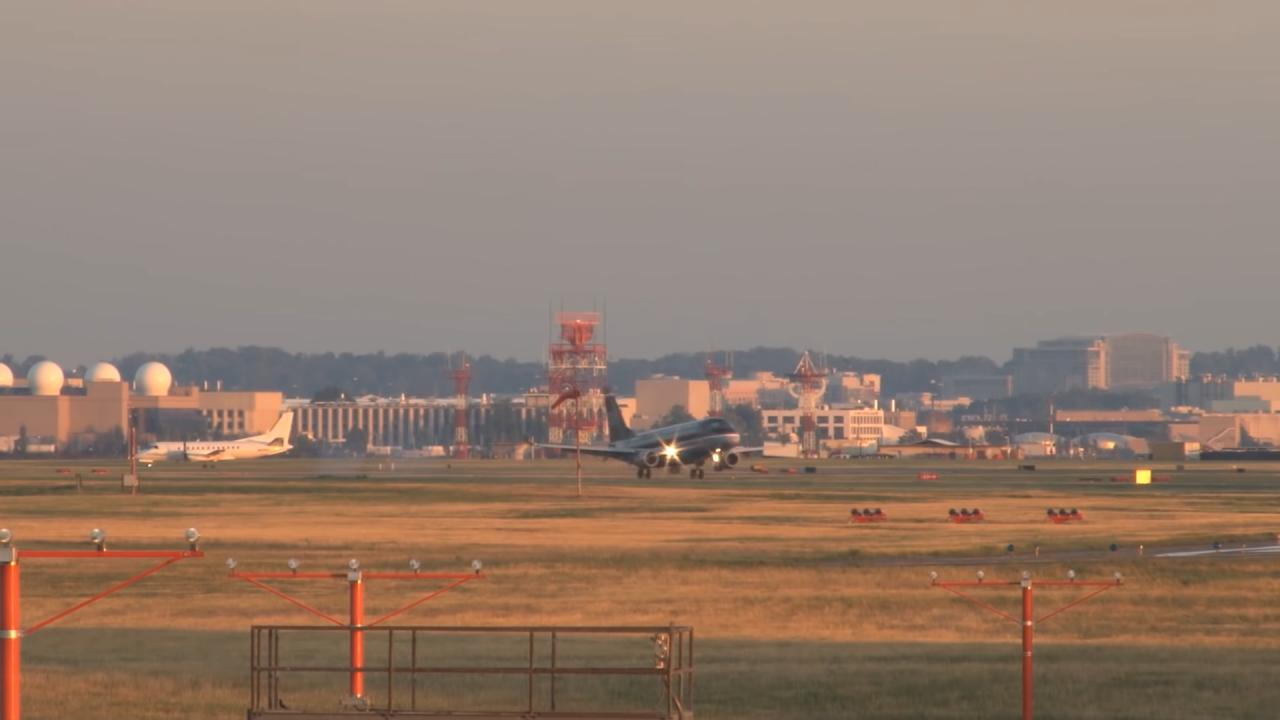Airplane: (521, 376, 774, 492), (119, 397, 309, 481)
